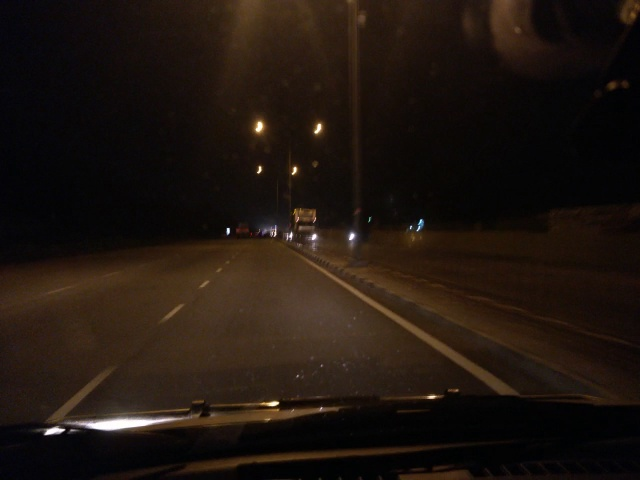truck: (294, 207, 325, 246)
